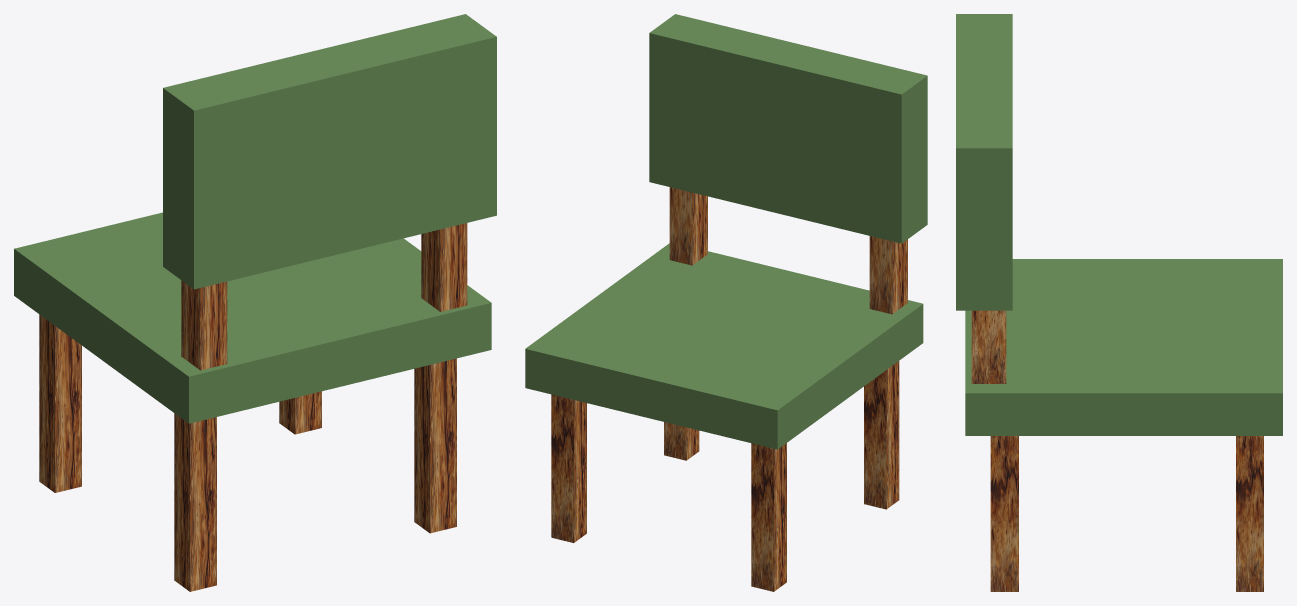
File: chair.obj
The picture shows the model from 3 angles, left to right: view 1: azimuth 30°, elevation 25°; view 2: azimuth 150°, elevation 25°; view 3: azimuth 270°, elevation 25°; orthographic projection. The views are drawn at different scales.
Visible parts, largest first — view 1: chair; view 2: chair; view 3: chair.
Boxes of the visible parts, box(x1,y1,x2,y2) form: chair: box(14, 14, 496, 591); chair: box(525, 14, 927, 591); chair: box(956, 14, 1282, 591).
Bounding box in the file's own units: 1.01 × 1.59 × 1.04.
